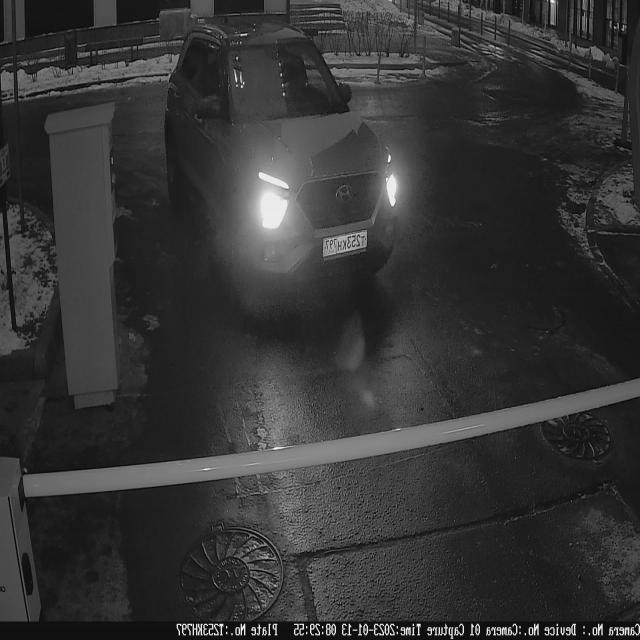car-plate-numbers: (320, 224, 371, 260)
